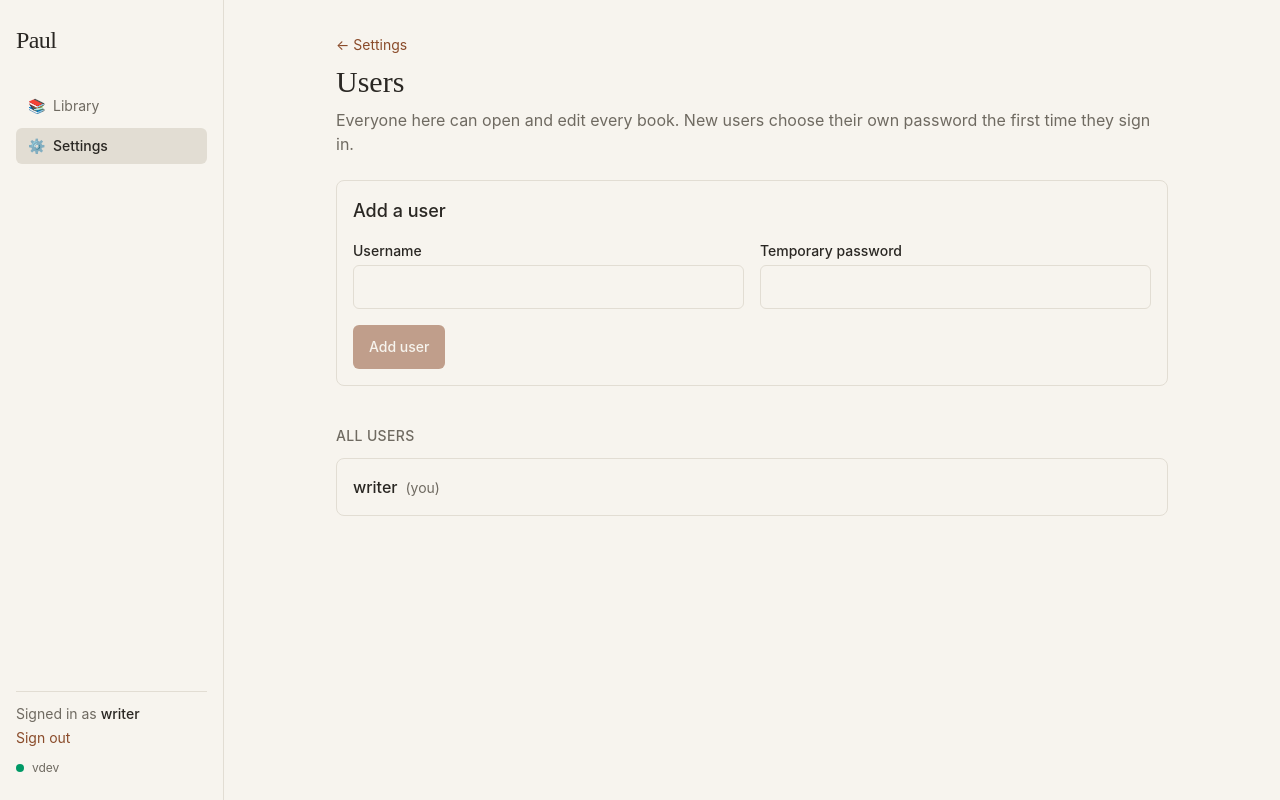
Test: users page › shows username problems against the username field
Type "writer" into the field labelled "Username".
click(548, 287); type("writer")  # box [353,265,744,309]
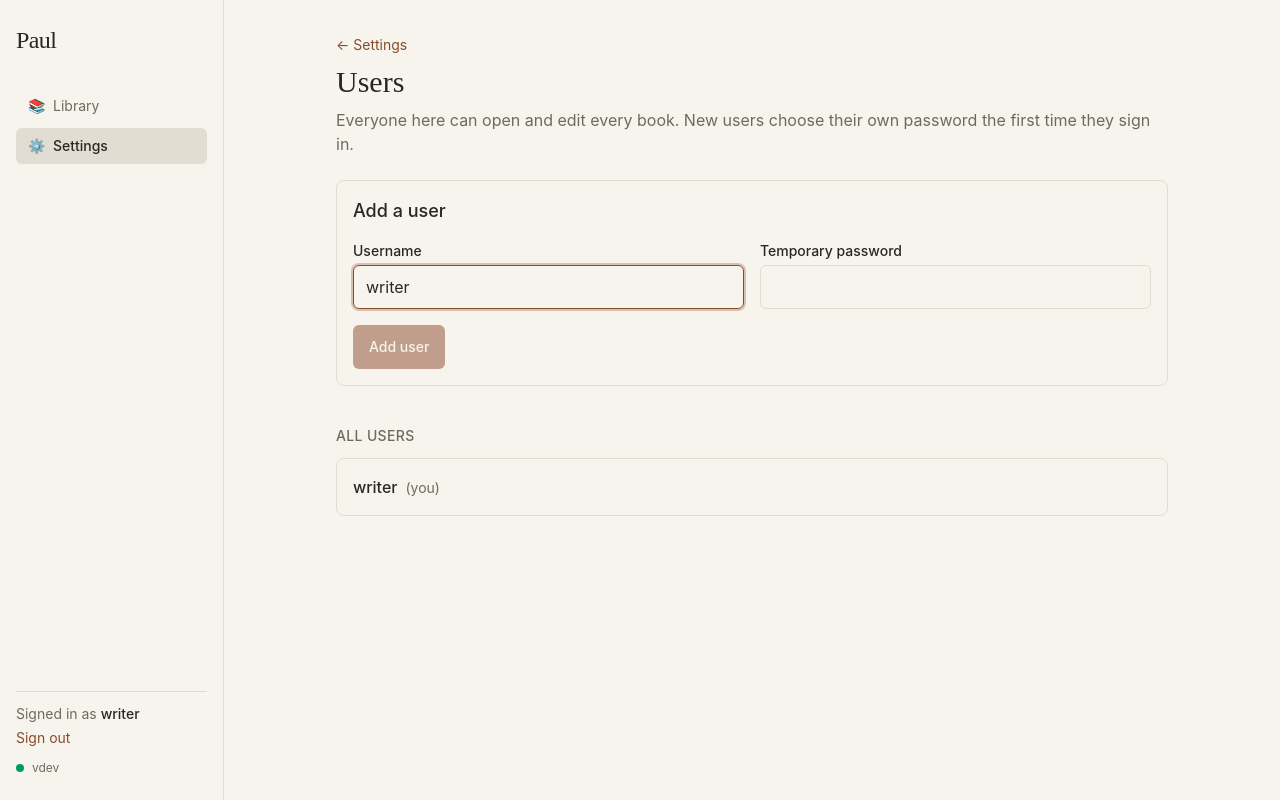
Type "temp-password" into the password field labelled "Temporary password".
click(956, 287); type("temp-password")  # box [760,265,1151,309]
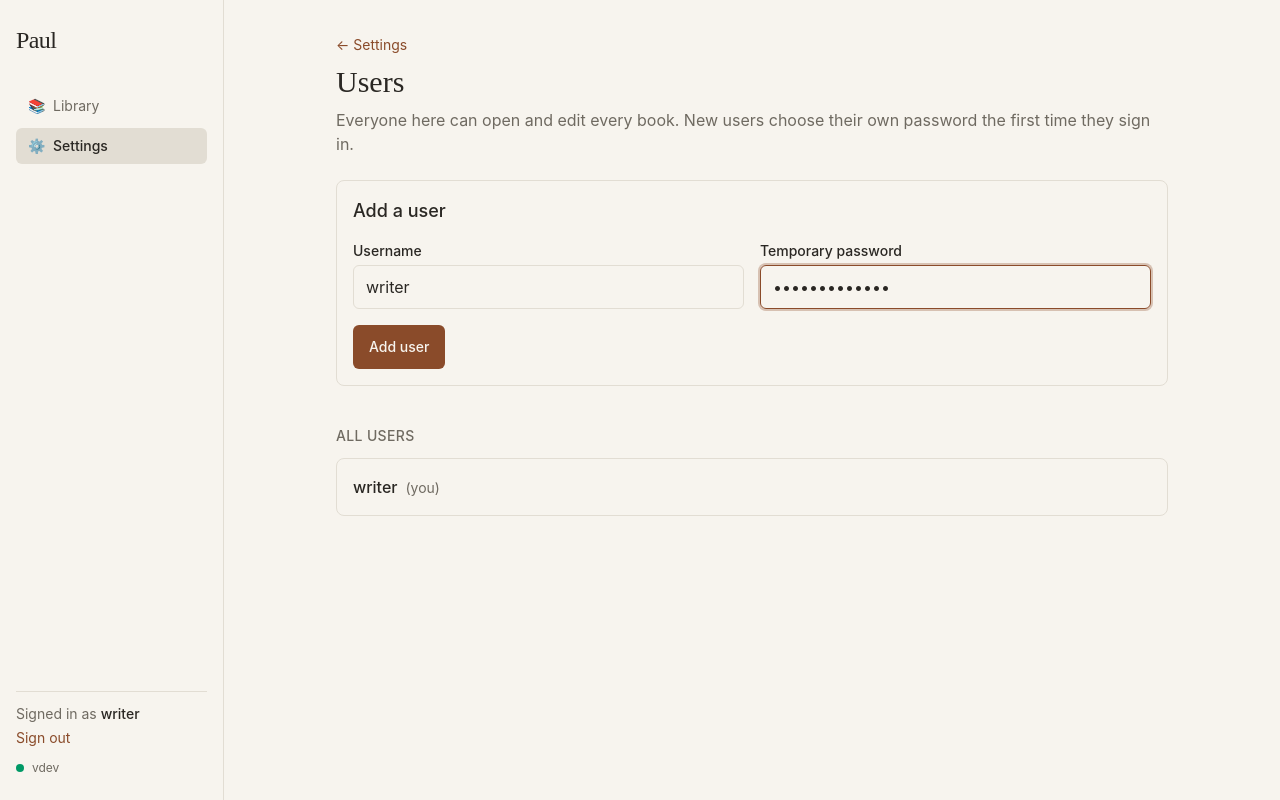
Click the button "Add user".
click(399, 347)  # box [353,325,446,369]
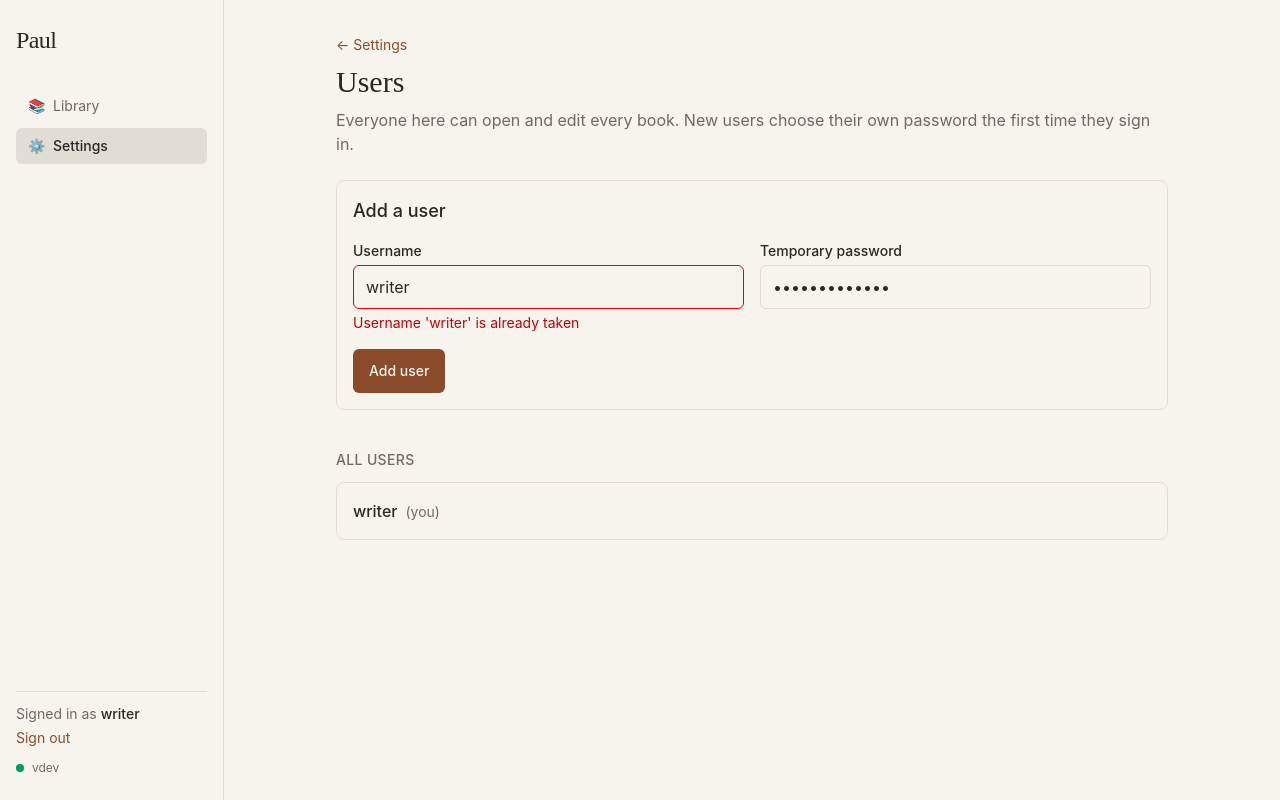
Result: the text "Username 'writer' is already taken" is shown at [353,314,579,331]
